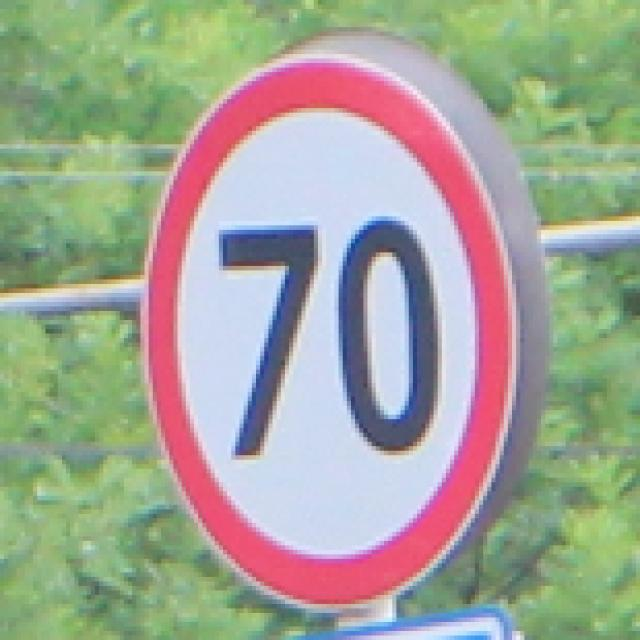speed limit 70: (142, 52, 519, 611)
